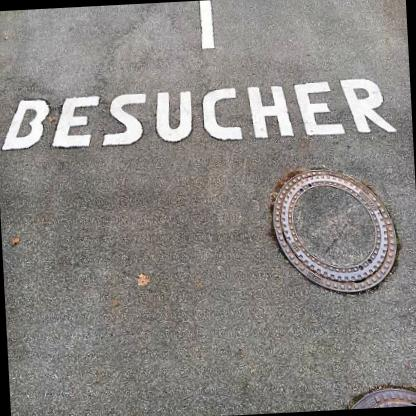manholes: (260, 135, 410, 322), (300, 361, 416, 411)
